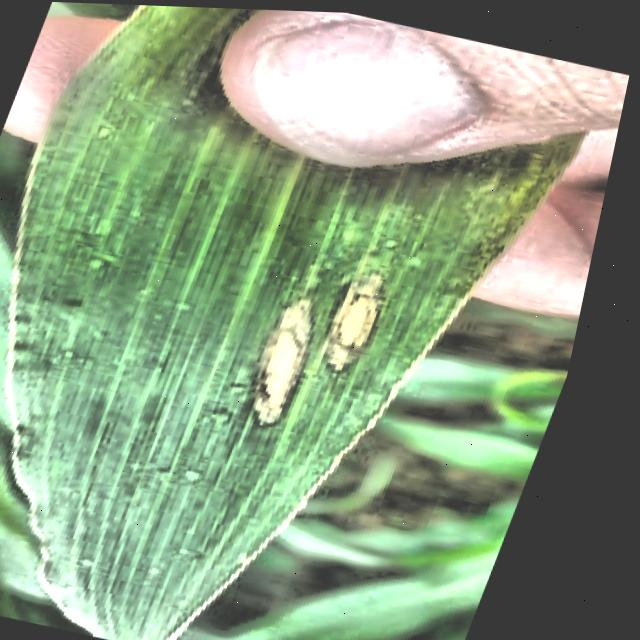blight: (2, 161, 495, 640)
